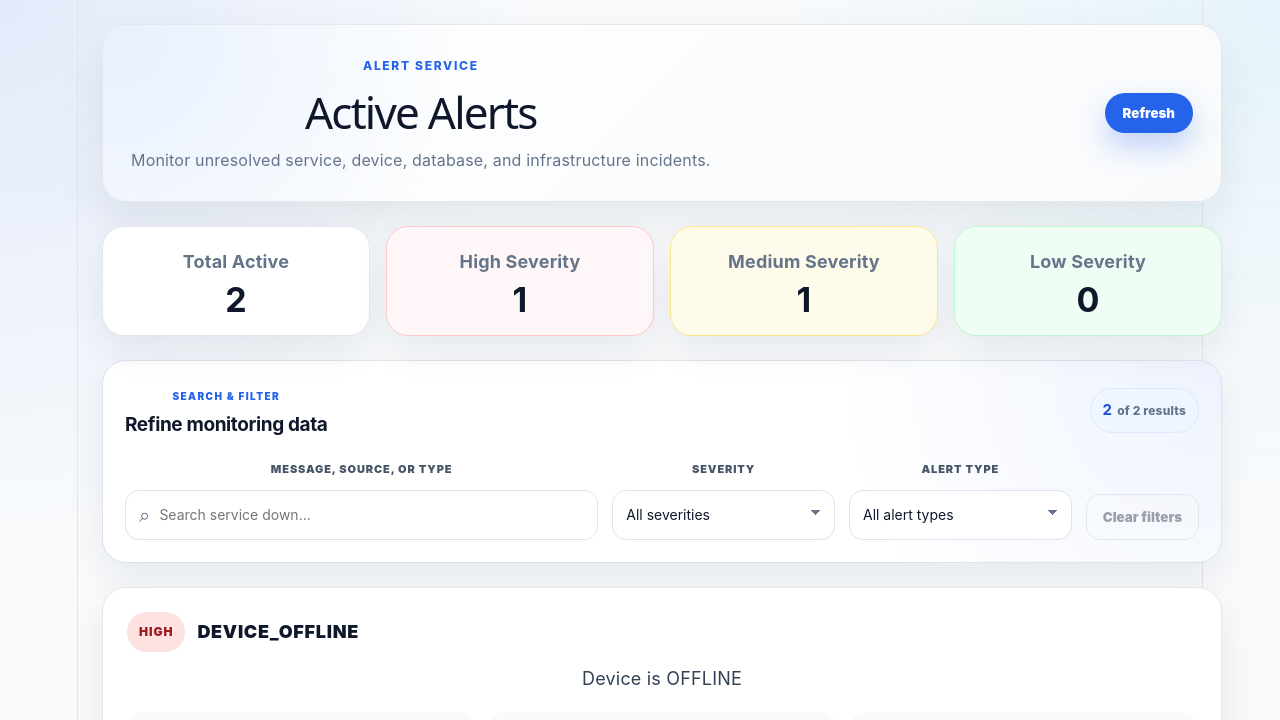
Test: AlertsPage › filters alerts by severity, type, and search text
Check: the text "DEVICE_OFFLINE" is shown, box left=197, top=619, right=359, bottom=645
Select "Medium" in the dropdown labelled "Severity" at [724, 515], box left=612, top=490, right=835, bottom=540
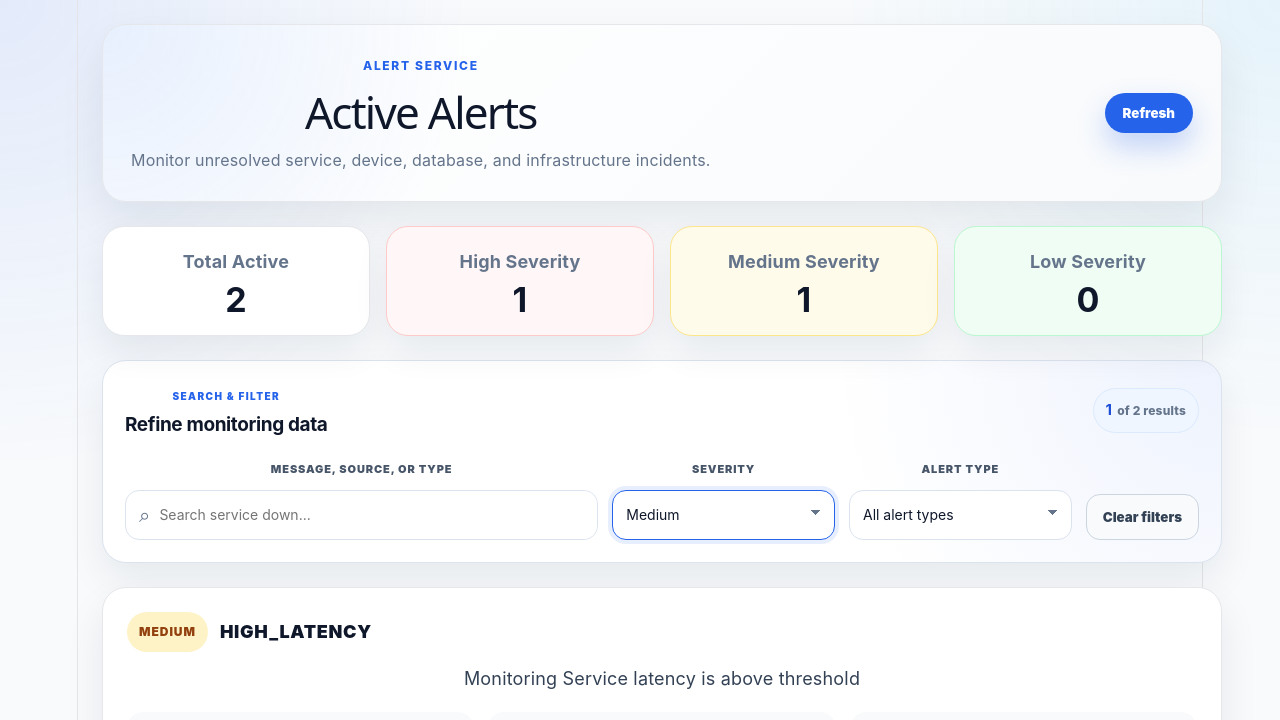
Check: the text "HIGH_LATENCY" is shown, box left=220, top=619, right=372, bottom=645
Check: the text "DEVICE_OFFLINE" is gone
Click the button "Clear filters" at [1142, 517], box left=1086, top=494, right=1199, bottom=540
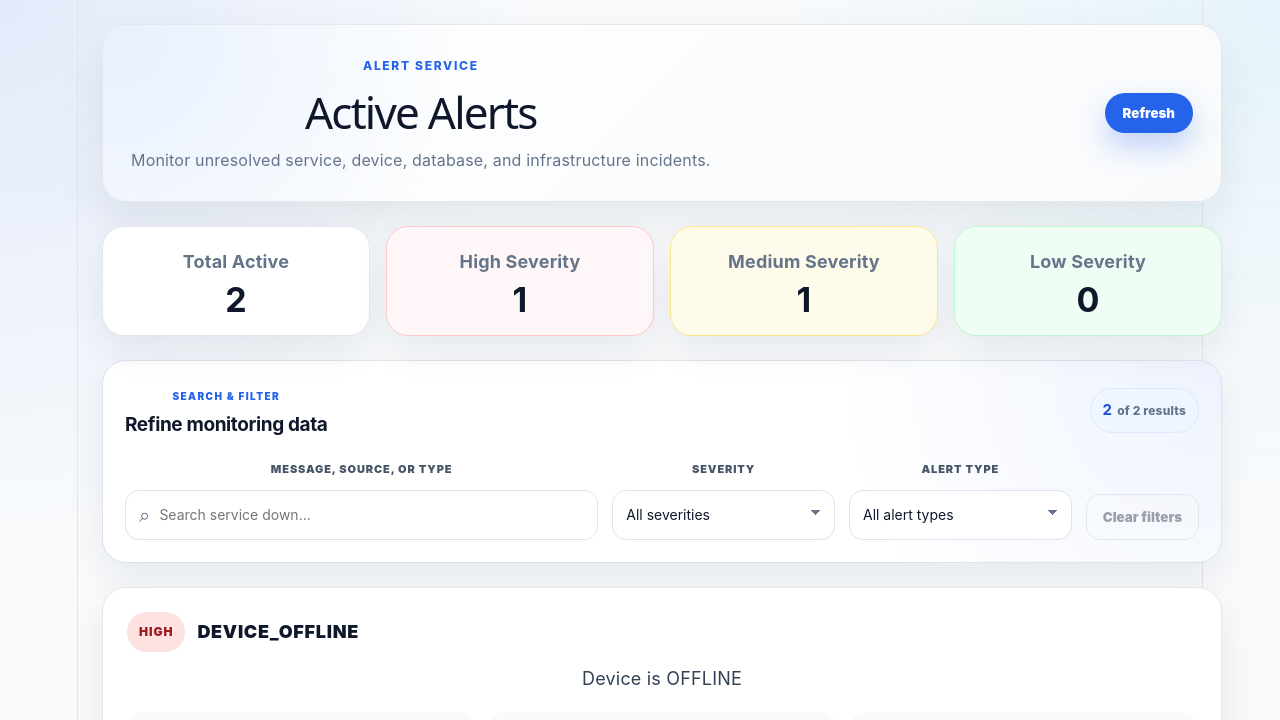
Select "DEVICE OFFLINE" in the dropdown labelled "Alert type" at [960, 515], box left=849, top=490, right=1072, bottom=540
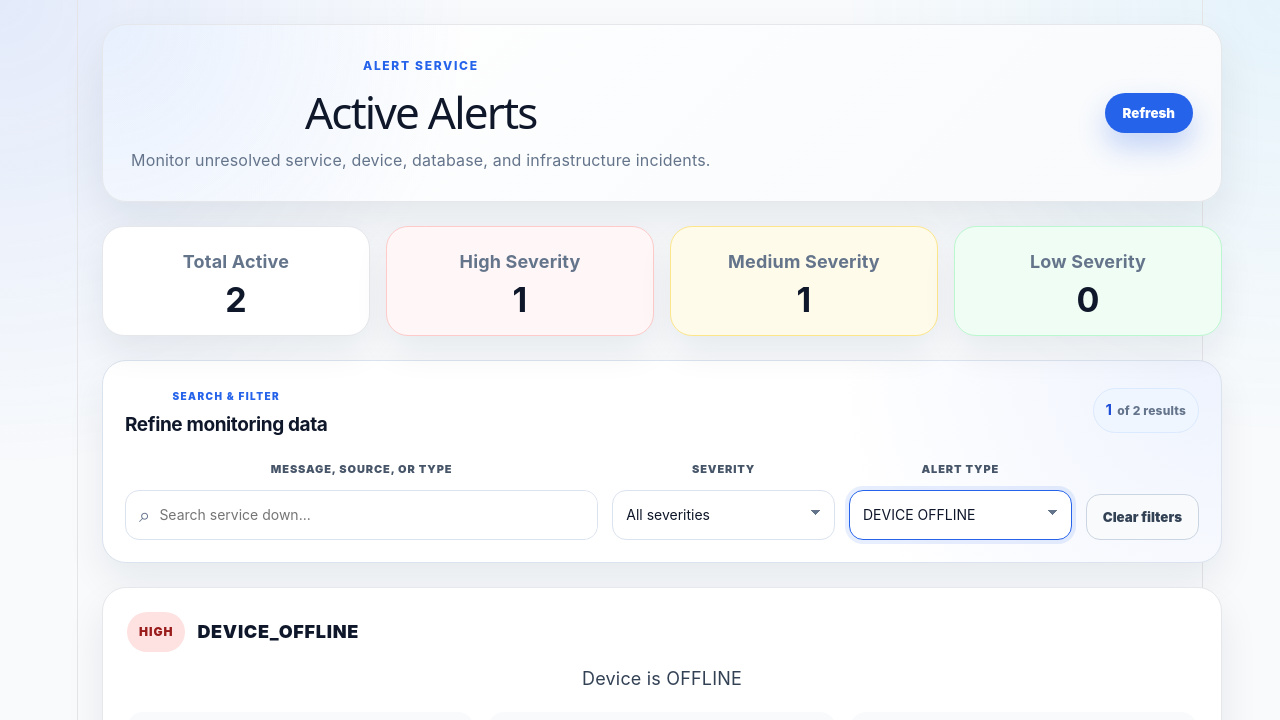
Check: the text "HIGH_LATENCY" is not shown
Check: the text "DEVICE_OFFLINE" is shown, box left=197, top=619, right=359, bottom=645
Click the button "Clear filters" at [1142, 517], box left=1086, top=494, right=1199, bottom=540
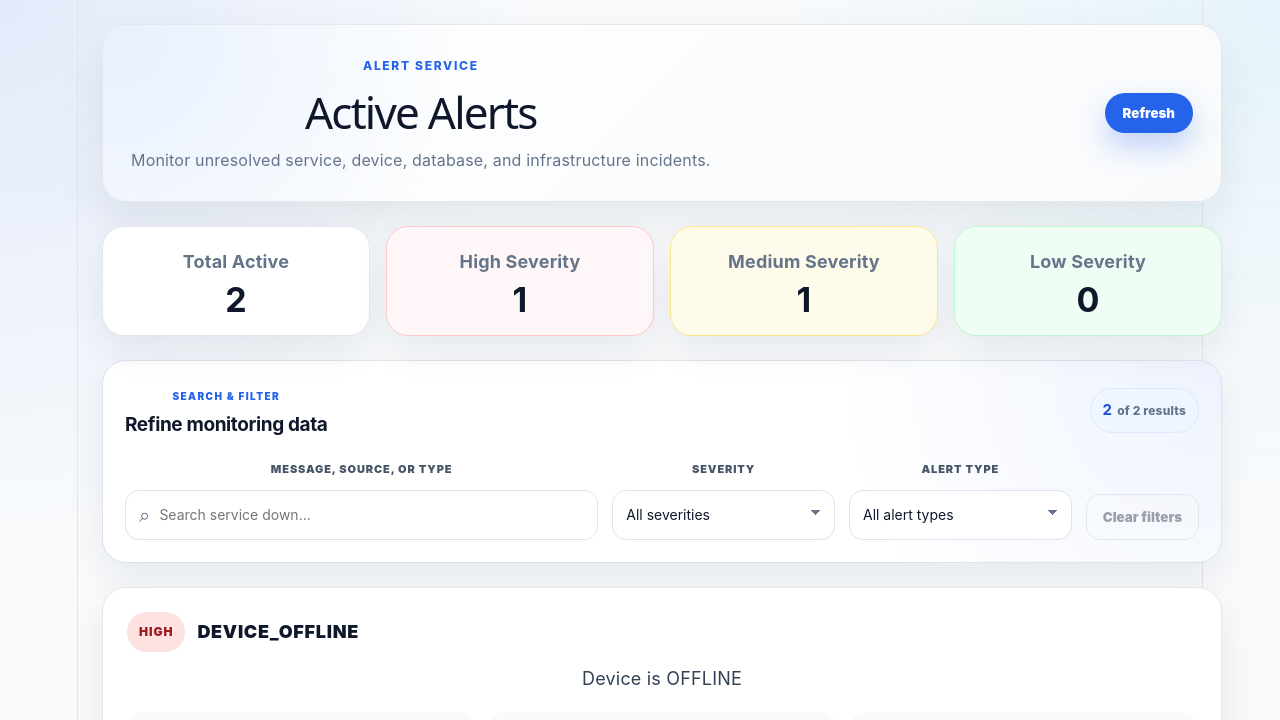
Type "monitoring-service" into the search field labelled "Message, source, or type" at [378, 515], box left=159, top=491, right=597, bottom=539
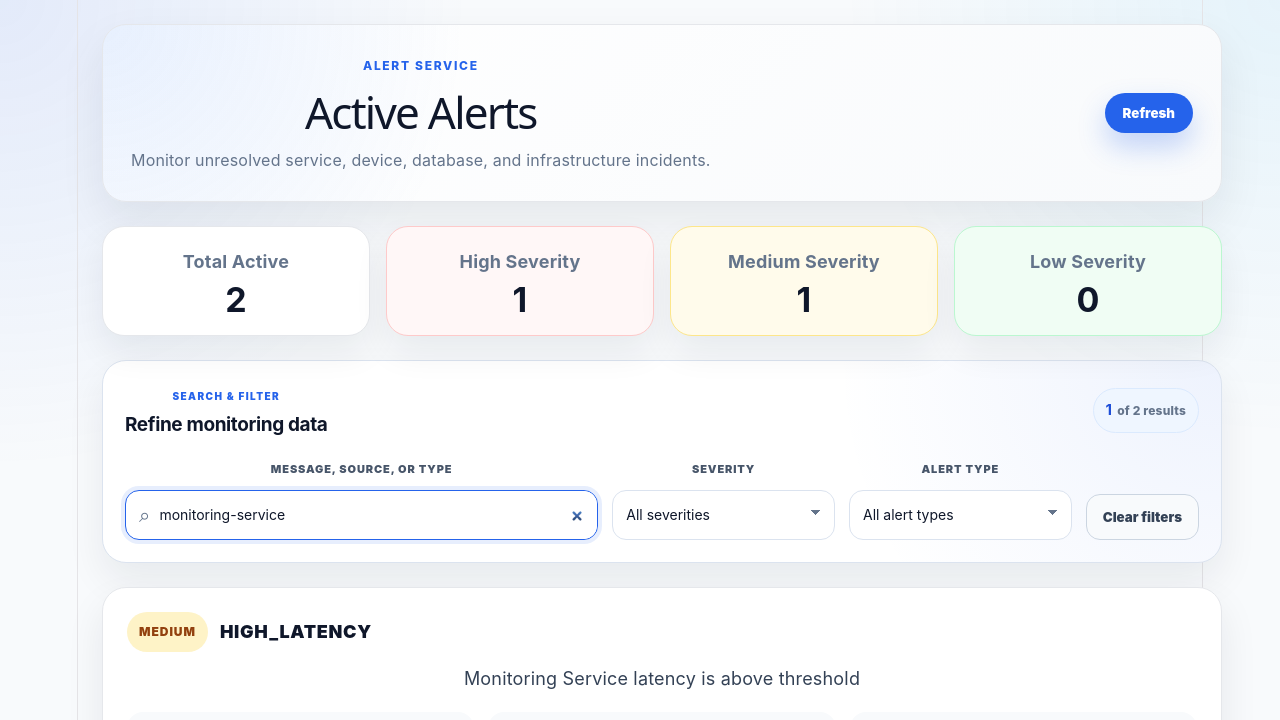
Check: the text "HIGH_LATENCY" is shown, box left=220, top=619, right=372, bottom=645
Check: the text "DEVICE_OFFLINE" is gone
